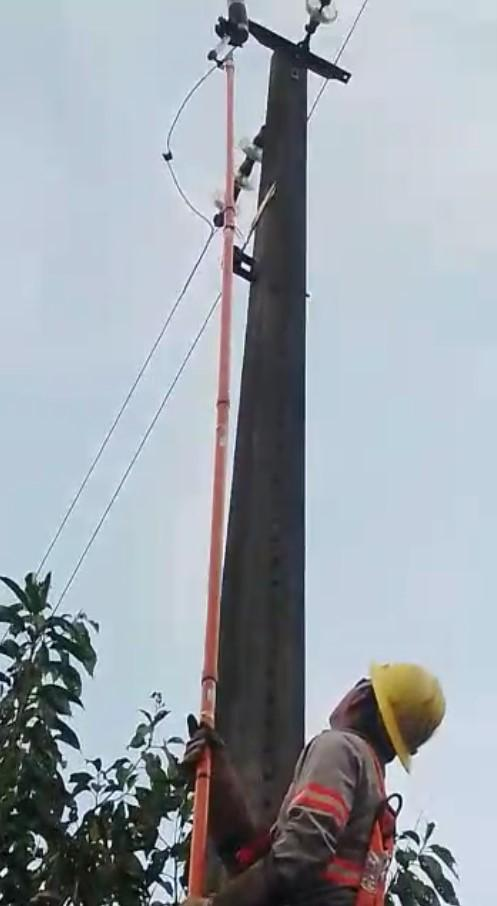Vara_Manobra: (183, 50, 239, 906)
